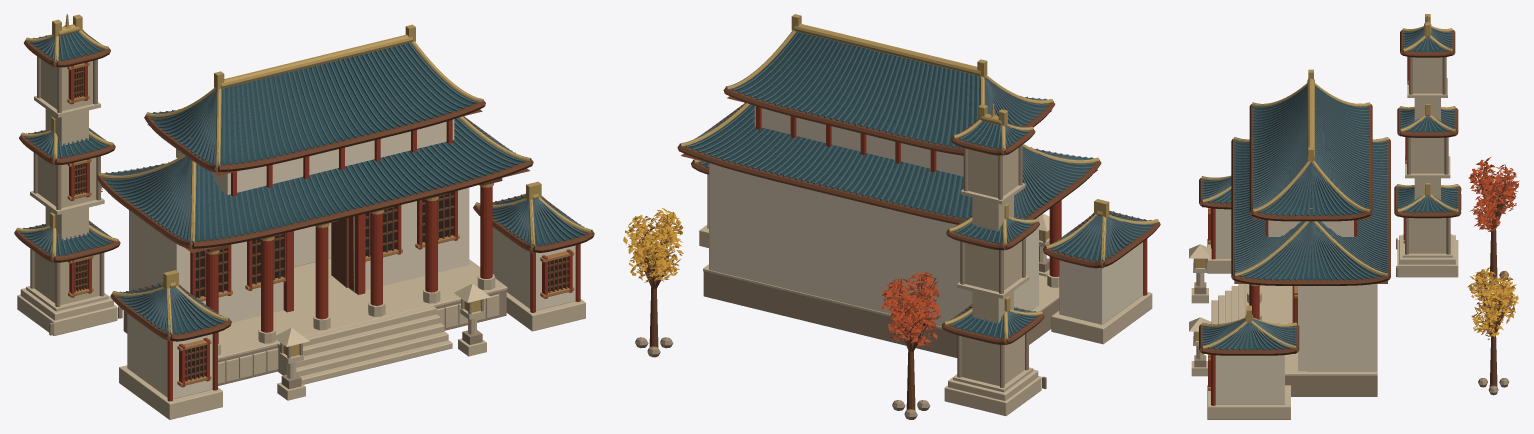
Rendered from changan.glb.
3 renders of one model, left to right at view 1: azimuth 30°, elevation 25°; view 2: azimuth 150°, elevation 25°; view 3: azimuth 270°, elevation 25°, orthographic. The views are drawn at different scales.
Visible parts, largest first — view 1: changan_B03R2_changan_CA_TileEdge, changan_B03R2_changan_CA_Roof, changan_B03R2_changan_CA_Stone, changan_B03R2_changan_CA_Plaster, changan_B03R2_changan_CA_Vermilion, changan_B03R2_changan_CA_Wood, changan_B03R2_changan_Stone, changan_B03R2_changan_CA_Gold, changan_B03R2_changan_Wood, changan_B03R2_changan_StoneShade, changan_B03R2_changan_TileEdge, changan_B03R2_changan_CA_Dark (+6 smaller); view 2: changan_B03R2_changan_CA_Plaster, changan_B03R2_changan_CA_TileEdge, changan_B03R2_changan_CA_Roof, changan_B03R2_changan_Stone, changan_B03R2_changan_CA_StoneShade, changan_B03R2_changan_CA_Wood, changan_B03R2_changan_CA_Gold, changan_B03R2_changan_Wood, changan_B03R2_changan_CA_Stone, changan_B03R2_changan_StoneShade, changan_B03R2_changan_LeafGold, changan_B03R2_changan_LeafRed (+6 smaller); view 3: changan_B03R2_changan_CA_TileEdge, changan_B03R2_changan_CA_Plaster, changan_B03R2_changan_Stone, changan_B03R2_changan_CA_Roof, changan_B03R2_changan_CA_Stone, changan_B03R2_changan_CA_Wood, changan_B03R2_changan_CA_Gold, changan_B03R2_changan_Wood, changan_B03R2_changan_TileEdge, changan_B03R2_changan_CA_StoneShade, changan_B03R2_changan_LeafRed, changan_B03R2_changan_LeafGold (+6 smaller).
Boxes of the visible parts, x1=… form: changan_B03R2_changan_CA_TileEdge: x1=99, y1=43, x2=592, y2=334; changan_B03R2_changan_CA_Roof: x1=106, y1=43, x2=586, y2=334; changan_B03R2_changan_CA_Stone: x1=119, y1=258, x2=585, y2=419; changan_B03R2_changan_CA_Plaster: x1=127, y1=119, x2=575, y2=399; changan_B03R2_changan_CA_Vermilion: x1=167, y1=119, x2=580, y2=401; changan_B03R2_changan_CA_Wood: x1=96, y1=101, x2=594, y2=381; changan_B03R2_changan_Stone: x1=17, y1=59, x2=490, y2=400; changan_B03R2_changan_CA_Gold: x1=98, y1=24, x2=592, y2=336; changan_B03R2_changan_Wood: x1=14, y1=30, x2=120, y2=292; changan_B03R2_changan_StoneShade: x1=30, y1=56, x2=483, y2=389; changan_B03R2_changan_TileEdge: x1=19, y1=30, x2=117, y2=255; changan_B03R2_changan_CA_Dark: x1=185, y1=192, x2=564, y2=379; changan_B03R2_changan_CA_Plaster: x1=707, y1=106, x2=1142, y2=326; changan_B03R2_changan_CA_TileEdge: x1=680, y1=32, x2=1156, y2=261; changan_B03R2_changan_CA_Roof: x1=685, y1=32, x2=1150, y2=261; changan_B03R2_changan_Stone: x1=944, y1=148, x2=1049, y2=415; changan_B03R2_changan_CA_StoneShade: x1=703, y1=271, x2=1059, y2=357; changan_B03R2_changan_CA_Wood: x1=677, y1=88, x2=1160, y2=268; changan_B03R2_changan_CA_Gold: x1=679, y1=14, x2=1158, y2=263; changan_B03R2_changan_Wood: x1=631, y1=119, x2=1044, y2=410; changan_B03R2_changan_CA_Stone: x1=699, y1=225, x2=1152, y2=344; changan_B03R2_changan_StoneShade: x1=635, y1=145, x2=1049, y2=419; changan_B03R2_changan_LeafGold: x1=623, y1=208, x2=683, y2=282; changan_B03R2_changan_LeafRed: x1=880, y1=272, x2=940, y2=346; changan_B03R2_changan_CA_TileEdge: x1=1201, y1=85, x2=1388, y2=350; changan_B03R2_changan_CA_Plaster: x1=1215, y1=208, x2=1377, y2=404; changan_B03R2_changan_Stone: x1=1189, y1=57, x2=1458, y2=376; changan_B03R2_changan_CA_Roof: x1=1203, y1=102, x2=1386, y2=349; changan_B03R2_changan_CA_Stone: x1=1207, y1=239, x2=1377, y2=419; changan_B03R2_changan_CA_Wood: x1=1199, y1=104, x2=1390, y2=355; changan_B03R2_changan_CA_Gold: x1=1201, y1=69, x2=1388, y2=349; changan_B03R2_changan_Wood: x1=1394, y1=30, x2=1517, y2=386; changan_B03R2_changan_TileEdge: x1=1397, y1=27, x2=1458, y2=212; changan_B03R2_changan_CA_StoneShade: x1=1285, y1=376, x2=1377, y2=396; changan_B03R2_changan_LeafRed: x1=1468, y1=157, x2=1519, y2=231; changan_B03R2_changan_LeafGold: x1=1467, y1=267, x2=1518, y2=339.
Size of the model in its own units: 4.68 by 3.15 by 3.79.
